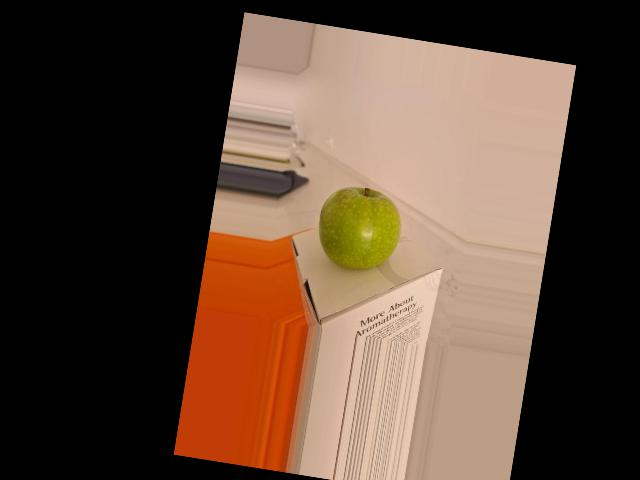apple: (314, 183, 404, 273)
